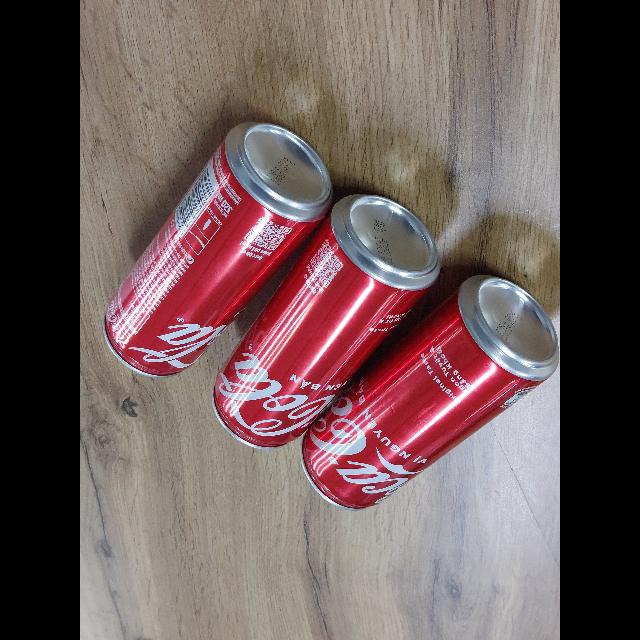coca_cola: (301, 271, 558, 509), (103, 119, 333, 377), (213, 191, 441, 447)
